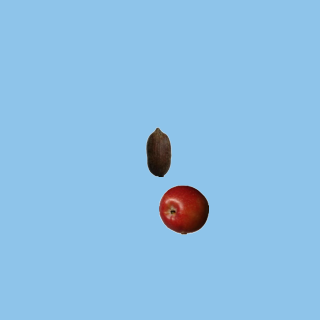Apple Braeburn: (158, 184, 208, 234)
Nut Pecan: (133, 126, 183, 176)
